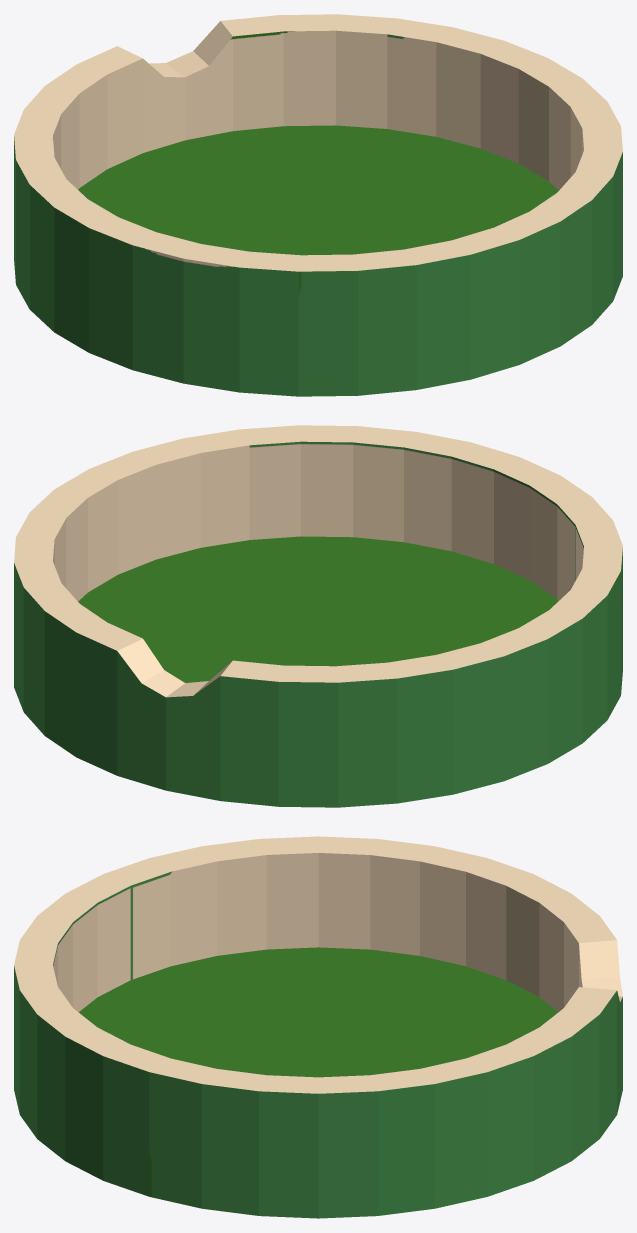
File: Ashtray.fbx
The picture shows the model from 3 angles, top to bottom: view 1: azimuth 30°, elevation 25°; view 2: azimuth 150°, elevation 25°; view 3: azimuth 270°, elevation 25°; orthographic projection.
Parts seen in each view (by area): view 1: Cylinder.002; view 2: Cylinder.002; view 3: Cylinder.002.
Boxes of the visible parts, x1,y1,x2,y2 form: Cylinder.002: (14,14,622,396); Cylinder.002: (14,425,622,807); Cylinder.002: (14,836,622,1218).
Bounding box in the file's own units: 2.67 × 0.6036 × 2.67.
Materials: 1 (1 with a texture image).
